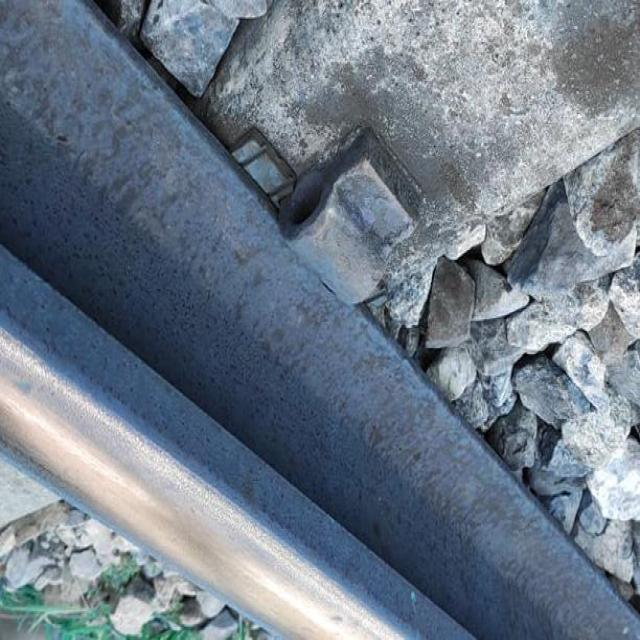Missing Fastener: (249, 107, 449, 323)
